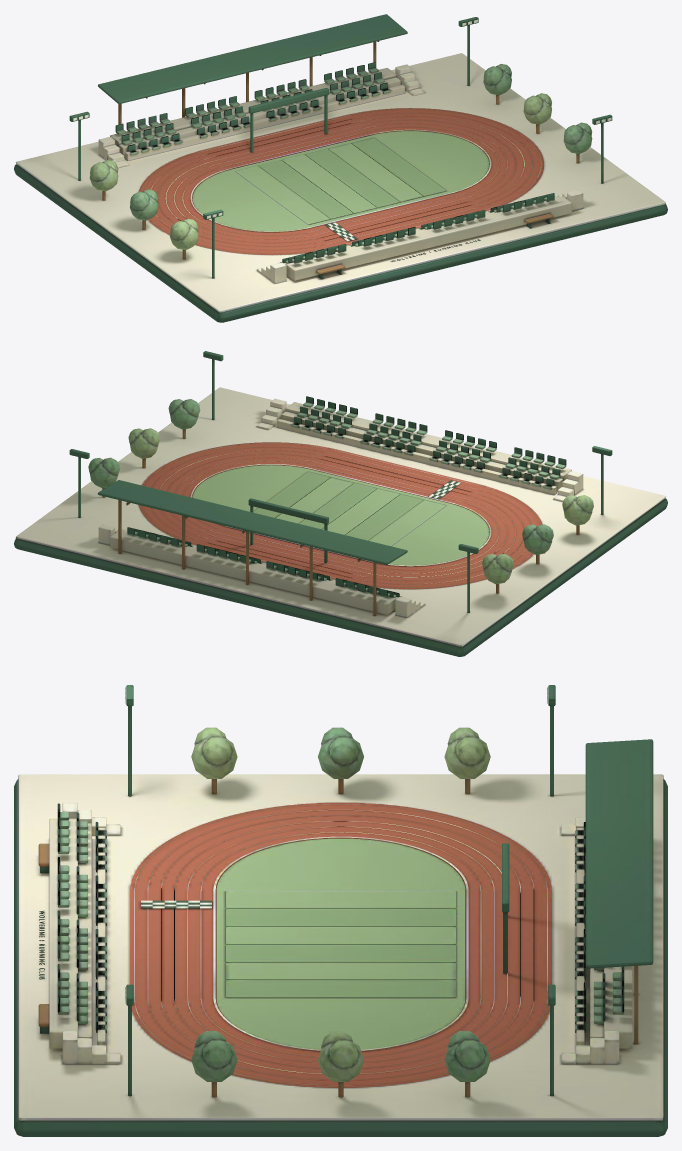
Rendered from training-ground-v1.glb.
3 renders of one model, top to bottom at view 1: azimuth 30°, elevation 25°; view 2: azimuth 150°, elevation 25°; view 3: azimuth 270°, elevation 25°, orthographic. The views are drawn at different scales.
Visible parts, largest first — view 1: Blender_Baked_Training_Ground; view 2: Blender_Baked_Training_Ground; view 3: Blender_Baked_Training_Ground.
Part boxes in pixels (x1,y1,x2,y2): Blender_Baked_Training_Ground: [14, 14, 667, 322]; Blender_Baked_Training_Ground: [14, 351, 667, 656]; Blender_Baked_Training_Ground: [14, 685, 667, 1136].
Size of the model in its own units: 39 by 6.56 by 31.
1 material, 1 textured.
